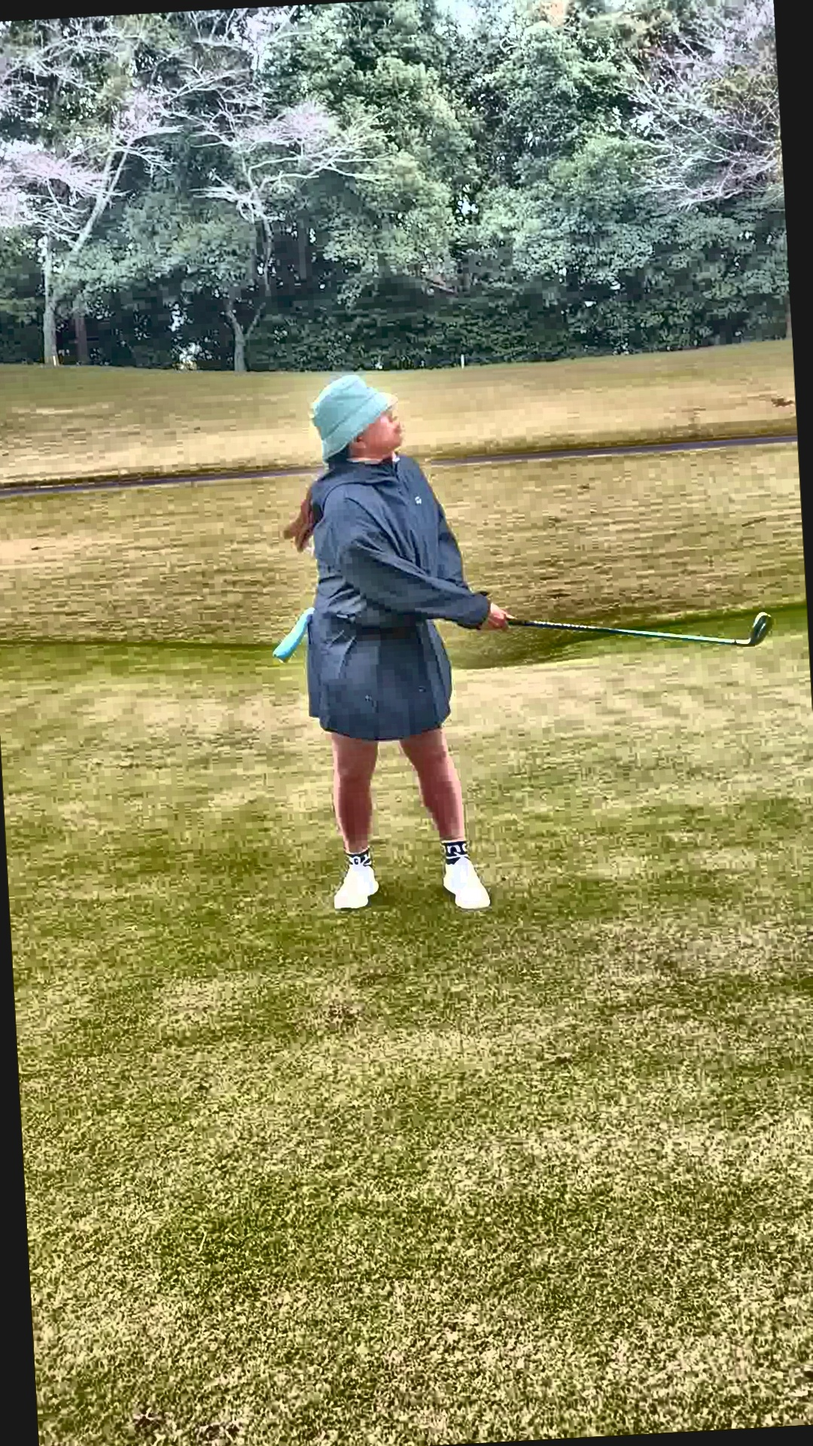clubhead: (712, 547, 789, 717)
